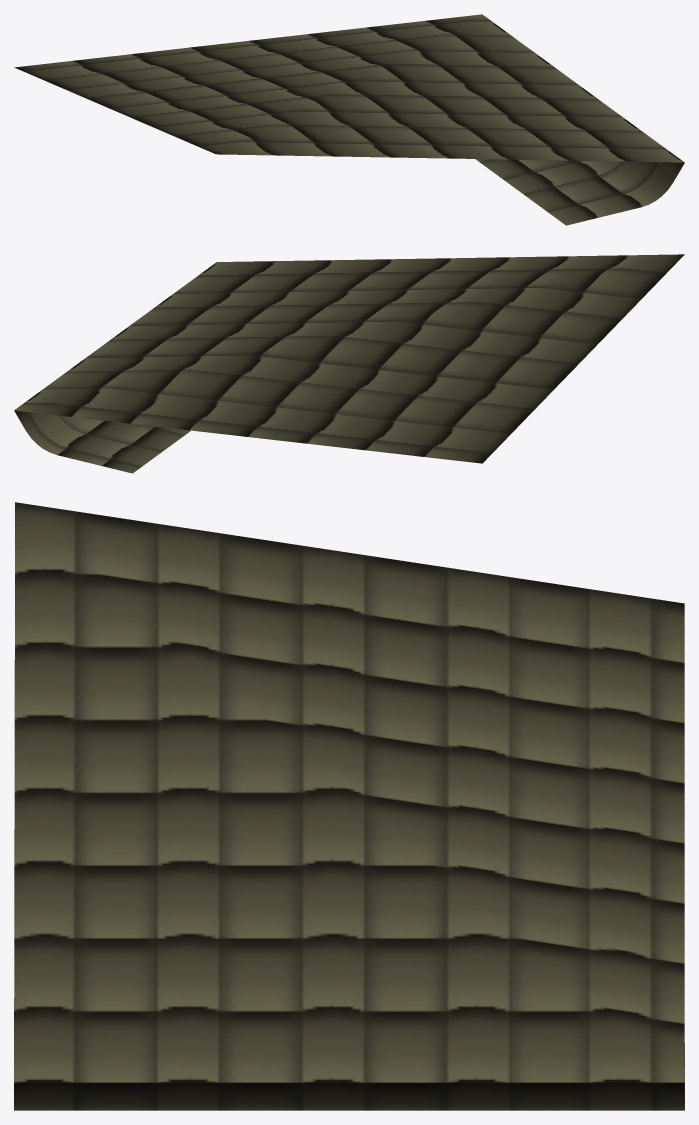
File: NNJ0510058.fbx
3 renders of one model, top to bottom at view 1: azimuth 30°, elevation 25°; view 2: azimuth 150°, elevation 25°; view 3: azimuth 270°, elevation 25°, orthographic. The views are drawn at different scales.
Visible parts, largest first — view 1: smNNJ0510058; view 2: smNNJ0510058; view 3: smNNJ0510058.
Boxes of the visible parts, x1=… form: smNNJ0510058: x1=14, y1=14, x2=684, y2=225; smNNJ0510058: x1=14, y1=254, x2=684, y2=473; smNNJ0510058: x1=14, y1=502, x2=684, y2=1110.
Size of the model in its own units: 369 by 117 by 276.
1 material, 1 textured.
